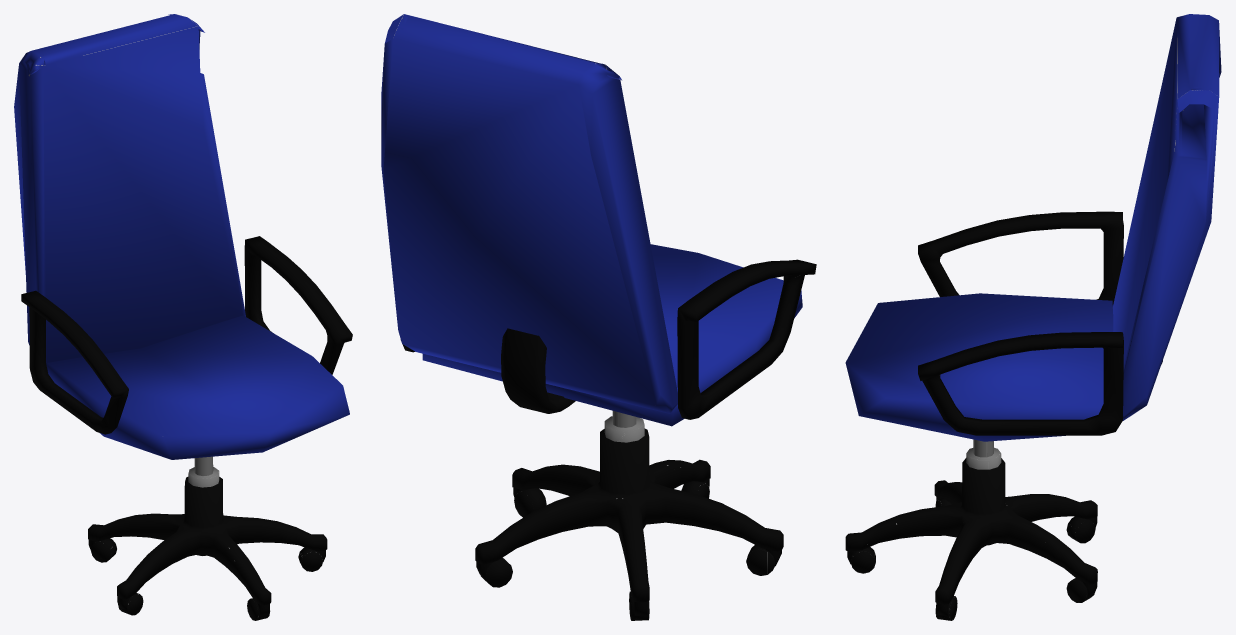
File: chair.fbx
3 views of the same model, side by side, from view 1: azimuth 30°, elevation 25°; view 2: azimuth 150°, elevation 25°; view 3: azimuth 270°, elevation 25° (orthographic). The views are drawn at different scales.
Parts seen in each view (by area): view 1: backrest, plastic, wheel, metal bar; view 2: backrest, plastic, wheel, metal bar; view 3: backrest, plastic, wheel, metal bar.
Boxes of the visible parts, left/top/right/bottom form: backrest: left=14, top=14, right=349, bottom=459; plastic: left=21, top=236, right=352, bottom=616; wheel: left=91, top=513, right=323, bottom=620; metal bar: left=188, top=456, right=219, bottom=487; backrest: left=381, top=14, right=802, bottom=426; plastic: left=400, top=259, right=816, bottom=615; wheel: left=480, top=481, right=775, bottom=620; metal bar: left=604, top=411, right=644, bottom=442; backrest: left=845, top=14, right=1221, bottom=441; plastic: left=845, top=211, right=1162, bottom=615; wheel: left=850, top=499, right=1095, bottom=620; metal bar: left=966, top=439, right=1001, bottom=469.
Size of the model in its own units: 61.76 by 117 by 76.6.
Materials: 4 (4 with a texture image).
